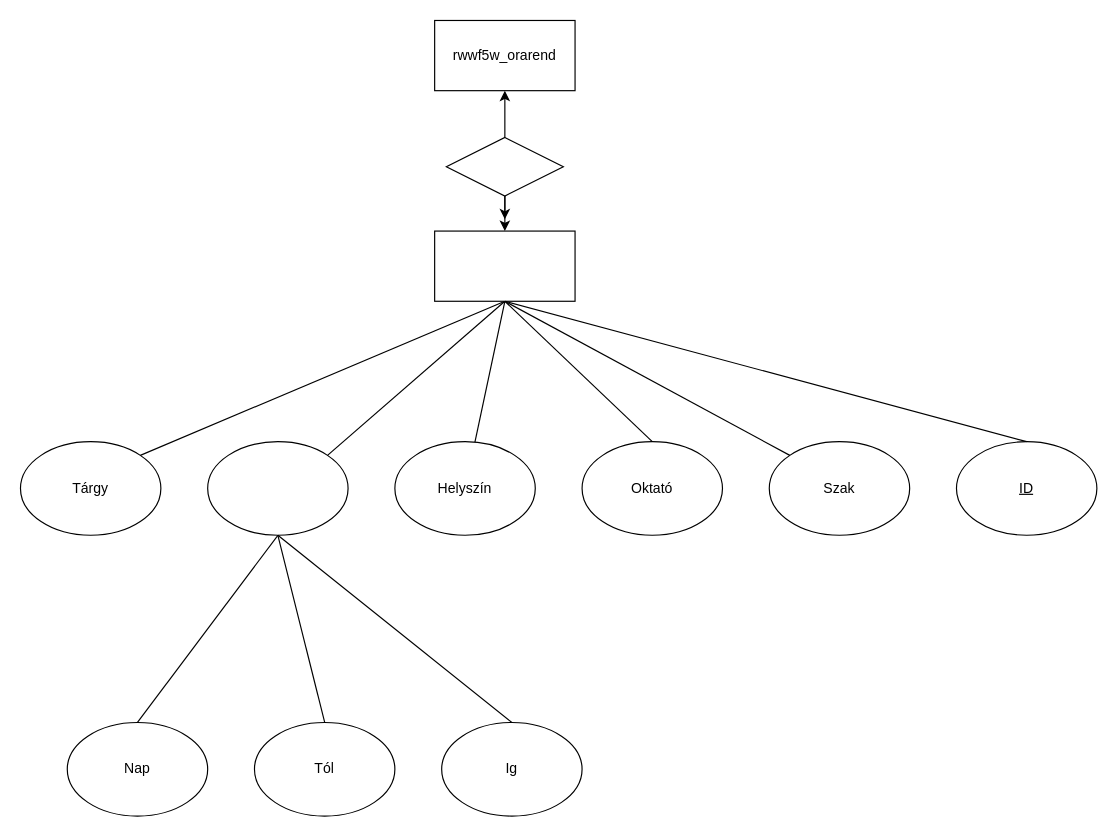
This 1117x837 diagram has some shape labels left out. Each missing label, with the centre of its shape:
"Időpont" belongs at pixel 277 488.
"Tartalom" belongs at pixel 504 166.
"Óra" belongs at pixel 504 265.
